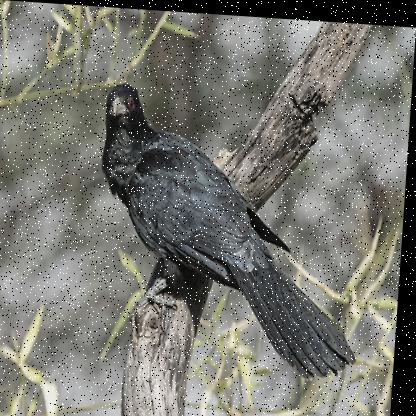Burung: (94, 80, 376, 380)
